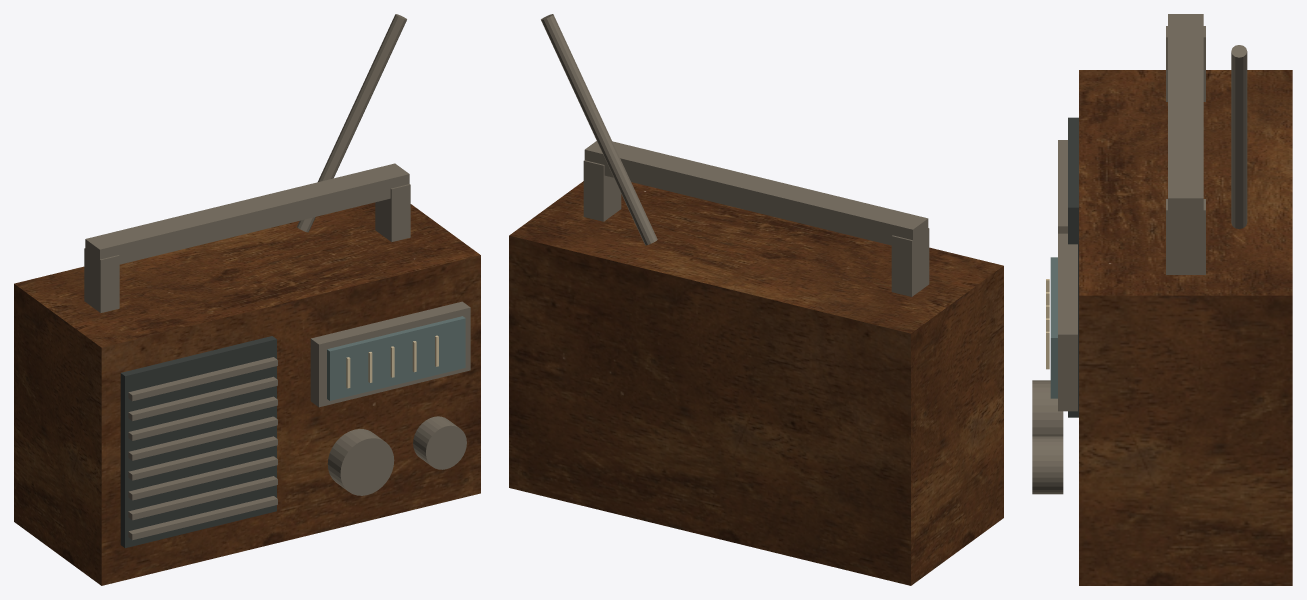
Rendered from yard-radio.glb.
3 renders of one model, left to right at view 1: azimuth 30°, elevation 25°; view 2: azimuth 150°, elevation 25°; view 3: azimuth 270°, elevation 25°, orthographic. The views are drawn at different scales.
Parts seen in each view (by area): view 1: 收音机木箱, 扬声器底板, 提手, 频率窗, 频率框, 调频旋钮, 收音机天线, 调频旋钮.001, 手柄支架, 手柄支架.001, 喇叭栅条.001, 喇叭栅条.003 (+6 smaller); view 2: 收音机木箱, 提手, 收音机天线, 手柄支架, 手柄支架.001; view 3: 收音机木箱, 提手, 频率框, 收音机天线, 手柄支架.001, 调频旋钮.001, 扬声器底板, 调频旋钮, 频率窗, 喇叭栅条.007, 手柄支架.
Boxes of the visible parts, x1=… form: 收音机木箱: x1=14, y1=202, x2=480, y2=585; 扬声器底板: x1=120, y1=336, x2=276, y2=548; 提手: x1=85, y1=163, x2=409, y2=269; 频率窗: x1=327, y1=316, x2=465, y2=400; 频率框: x1=310, y1=301, x2=470, y2=407; 调频旋钮: x1=327, y1=429, x2=394, y2=495; 收音机天线: x1=297, y1=14, x2=406, y2=232; 调频旋钮.001: x1=413, y1=416, x2=466, y2=469; 手柄支架: x1=84, y1=248, x2=119, y2=312; 手柄支架.001: x1=375, y1=184, x2=410, y2=241; 喇叭栅条.001: x1=128, y1=476, x2=277, y2=520; 喇叭栅条.003: x1=128, y1=436, x2=277, y2=480; 收音机木箱: x1=509, y1=181, x2=1003, y2=585; 提手: x1=584, y1=141, x2=928, y2=245; 收音机天线: x1=541, y1=14, x2=657, y2=245; 手柄支架: x1=891, y1=228, x2=929, y2=296; 手柄支架.001: x1=583, y1=160, x2=621, y2=221; 收音机木箱: x1=1079, y1=70, x2=1292, y2=585; 提手: x1=1168, y1=14, x2=1203, y2=222; 频率框: x1=1058, y1=244, x2=1077, y2=411; 收音机天线: x1=1231, y1=45, x2=1247, y2=228; 手柄支架.001: x1=1166, y1=199, x2=1205, y2=274; 调频旋钮.001: x1=1032, y1=436, x2=1063, y2=494; 扬声器底板: x1=1068, y1=117, x2=1078, y2=417; 调频旋钮: x1=1032, y1=380, x2=1063, y2=436; 频率窗: x1=1050, y1=257, x2=1057, y2=398; 喇叭栅条.007: x1=1058, y1=140, x2=1067, y2=233; 手柄支架: x1=1166, y1=26, x2=1205, y2=101.
Size of the model in its own units: 1.2 by 1.31 by 0.585.
Materials: 5 (1 with a texture image).
